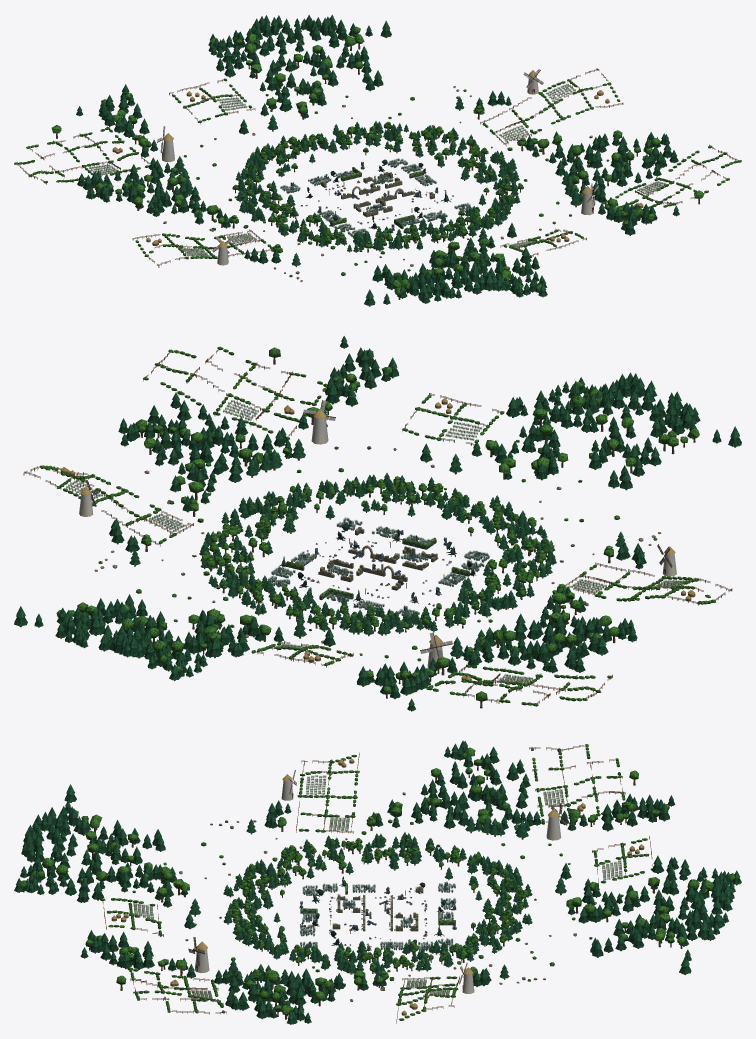
The model's file is abbey.glb.
3 renders of one model, top to bottom at view 1: azimuth 30°, elevation 25°; view 2: azimuth 150°, elevation 25°; view 3: azimuth 270°, elevation 25°, orthographic. The views are drawn at different scales.
Parts seen in each view (by area): view 1: Props, TallGrass; view 2: Props, TallGrass; view 3: Props, TallGrass.
Boxes of the visible parts, x1,y1,x2,y2 form: Props: (14, 14, 741, 306); TallGrass: (89, 84, 666, 256); Props: (14, 336, 741, 711); TallGrass: (66, 400, 687, 683); Props: (14, 740, 741, 1024); TallGrass: (133, 775, 622, 999).
Size of the model in its own units: 267 by 28.15 by 290.
Materials: 24 (24 with a texture image).
